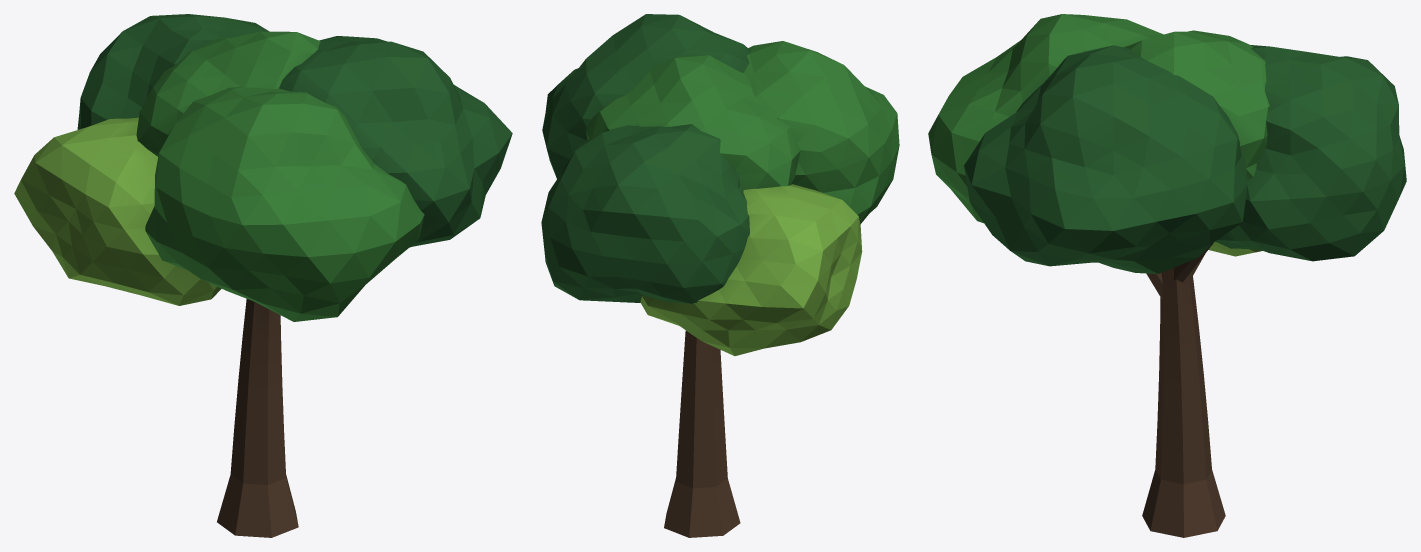
The model's file is Tree1.fbx.
The picture shows the model from 3 angles, left to right: view 1: azimuth 30°, elevation 25°; view 2: azimuth 150°, elevation 25°; view 3: azimuth 270°, elevation 25°; orthographic projection. The views are drawn at different scales.
Visible parts, largest first — view 1: Tree1; view 2: Tree1; view 3: Tree1.
Boxes of the visible parts, bbox=[...] form: Tree1: bbox=[14, 14, 512, 537]; Tree1: bbox=[541, 14, 899, 537]; Tree1: bbox=[928, 14, 1406, 537].
Bounding box in the file's own units: 5.78 × 7.06 × 6.25.
